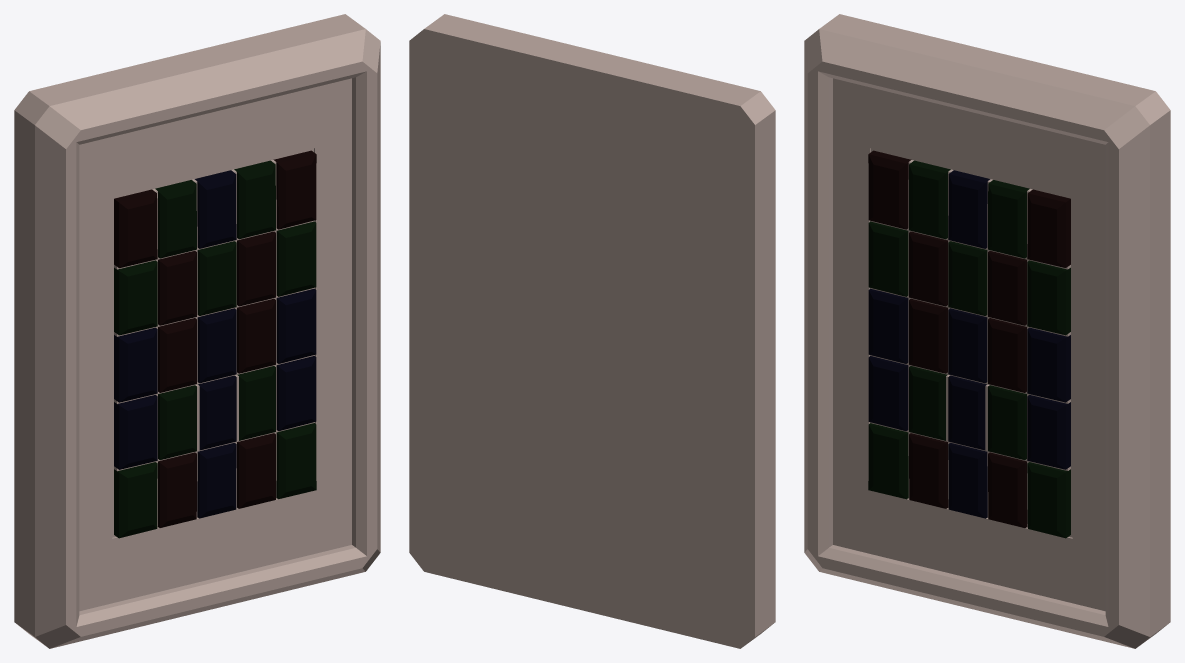
Rendered from New Panel.fbx.
3 views of the same model, side by side, from view 1: azimuth 30°, elevation 25°; view 2: azimuth 150°, elevation 25°; view 3: azimuth 330°, elevation 25° (orthographic).
Visible parts, largest first — view 1: Cube.001; view 2: Cube.001; view 3: Cube.001.
Boxes of the visible parts, <box> form: Cube.001: <box>14,14,380,648</box>; Cube.001: <box>409,14,775,648</box>; Cube.001: <box>804,14,1170,648</box>.
Size of the model in its own units: 50 by 75 by 8.63.
